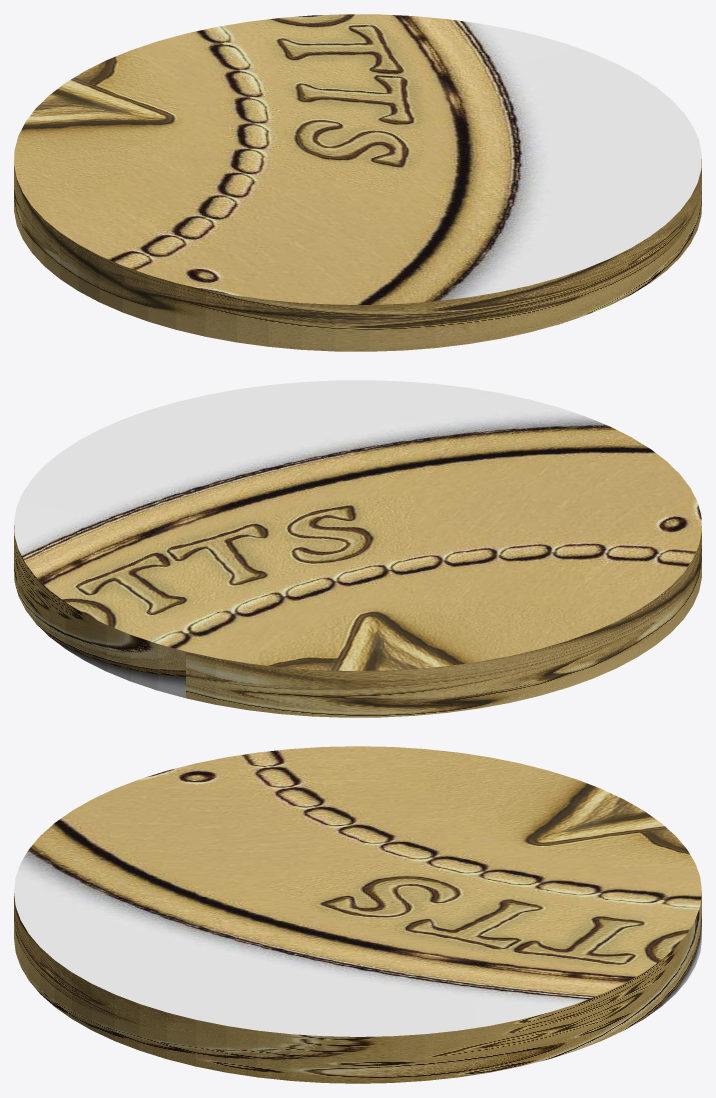
The model's file is coin.obj.
3 views of the same model, one above another, from view 1: azimuth 30°, elevation 25°; view 2: azimuth 150°, elevation 25°; view 3: azimuth 270°, elevation 25° (orthographic).
Parts seen in each view (by area): view 1: Cylinder; view 2: Cylinder; view 3: Cylinder.
Part boxes in pixels (bbox=[...]): Cylinder: bbox=[14, 14, 701, 351]; Cylinder: bbox=[14, 380, 701, 717]; Cylinder: bbox=[14, 746, 701, 1083].
Bounding box in the file's own units: 2 × 0.15 × 2.
